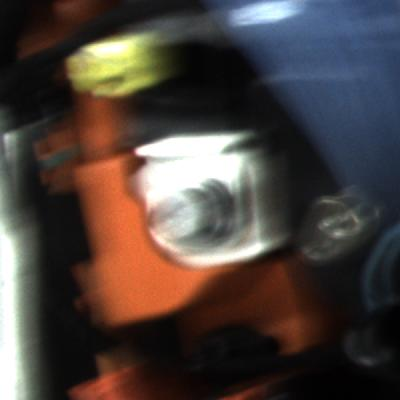nut_b: (153, 174, 242, 250)
